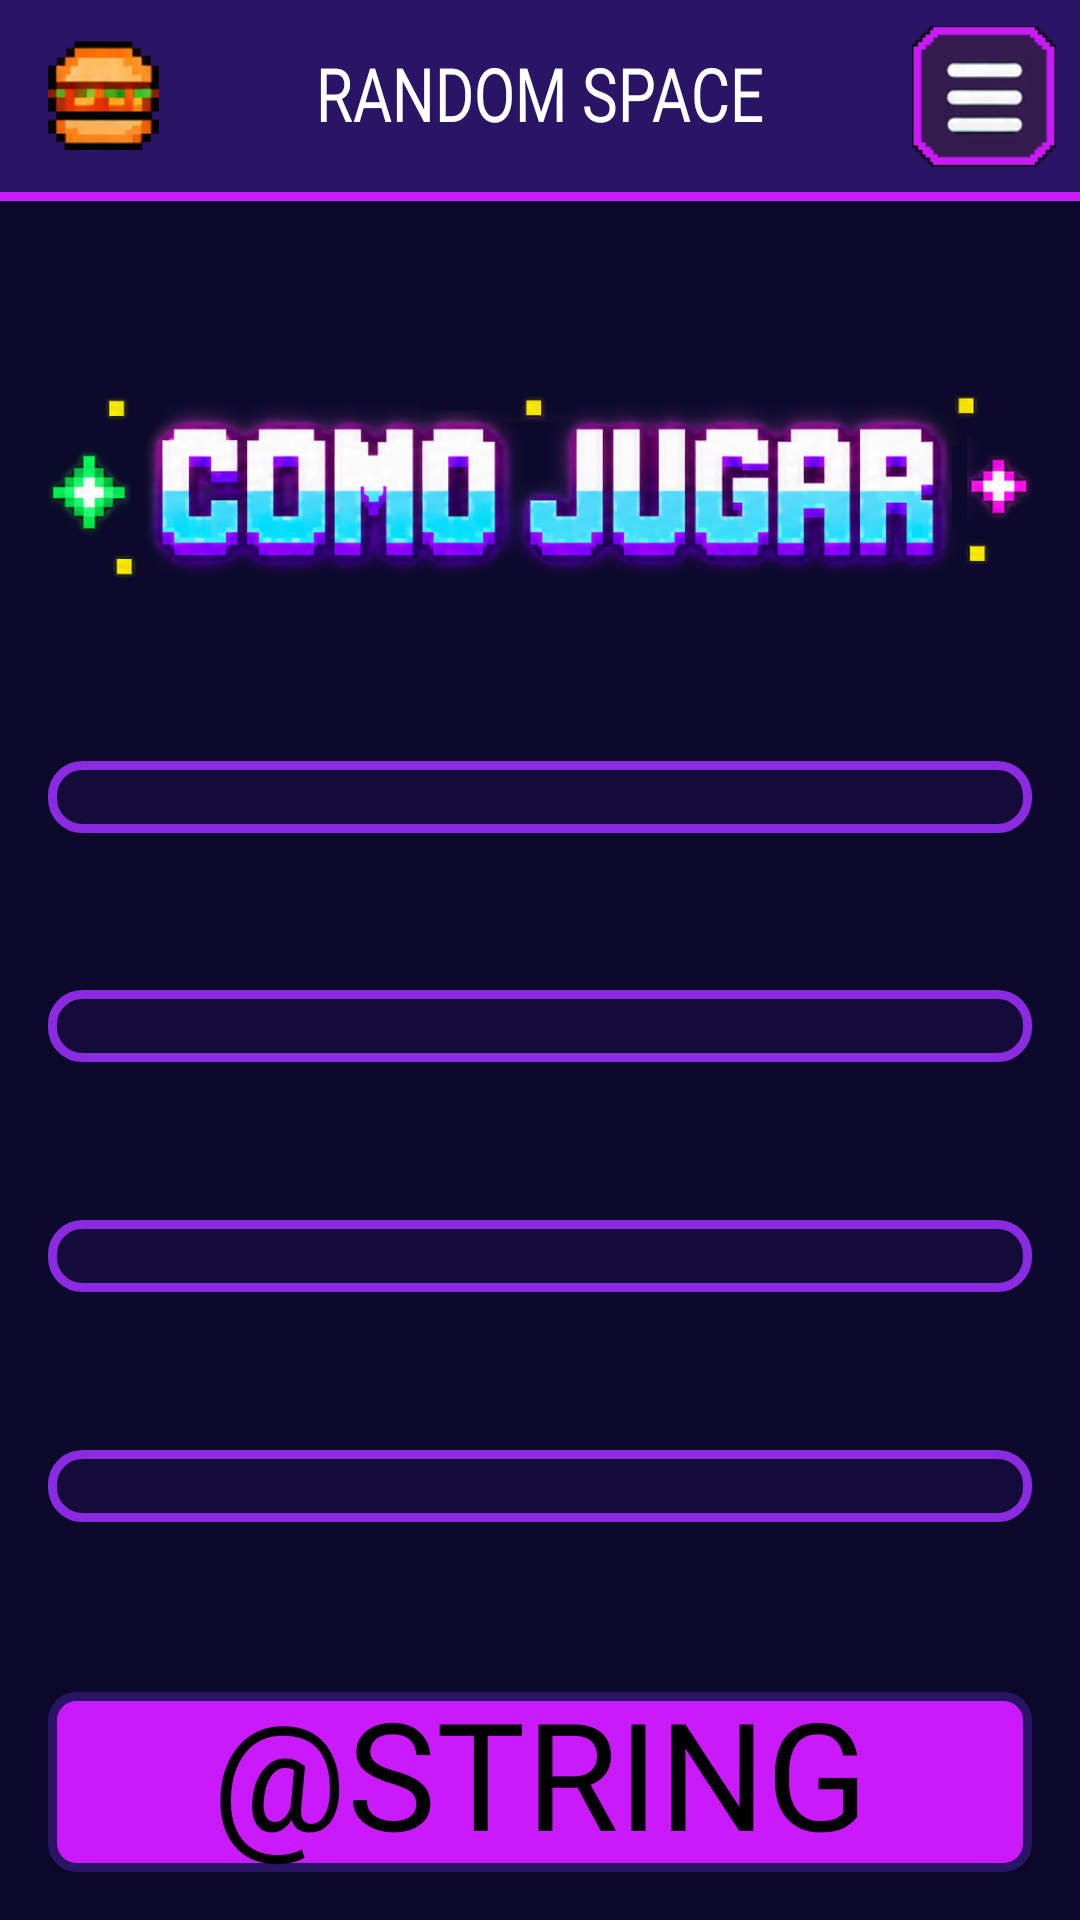

Locate icon controls on the screen. Image size 1080px×1920px, boxes as box=[x1, y1, x2, y2].
Abrir menú: box=[912, 26, 1056, 167]
burger: box=[48, 41, 159, 150]
